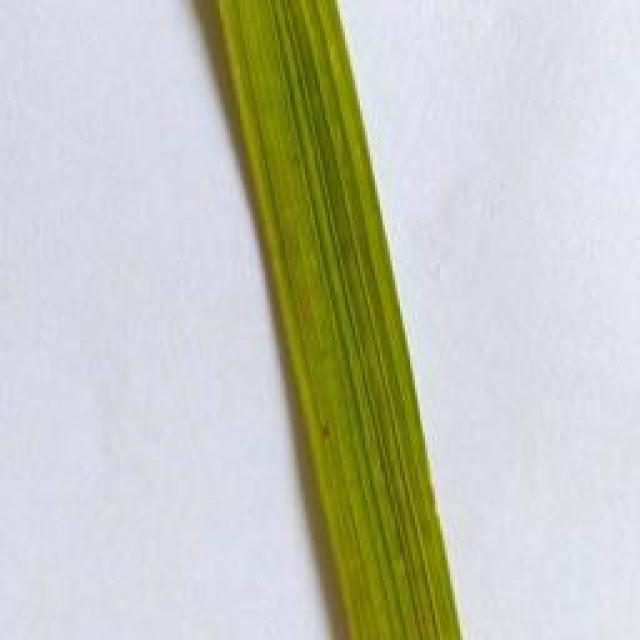Brown_Spot: (282, 153, 312, 174), (316, 421, 336, 446)
